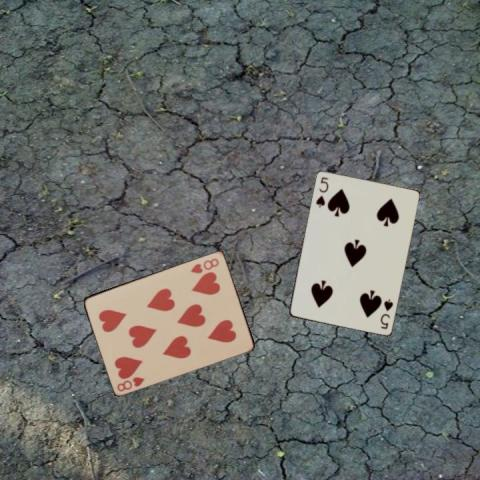5s: (377, 296, 394, 330), (313, 173, 329, 209)
8h: (187, 254, 220, 274), (114, 373, 146, 393)
